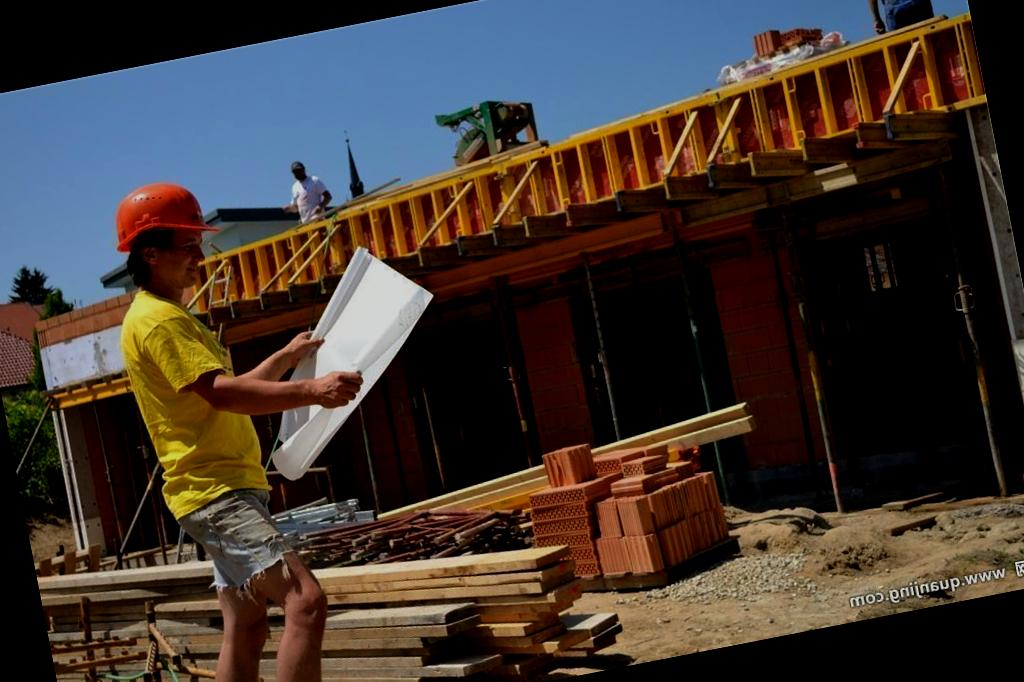helmet: (100, 170, 232, 282)
no_vest: (113, 274, 267, 523)
person: (91, 160, 354, 682)
